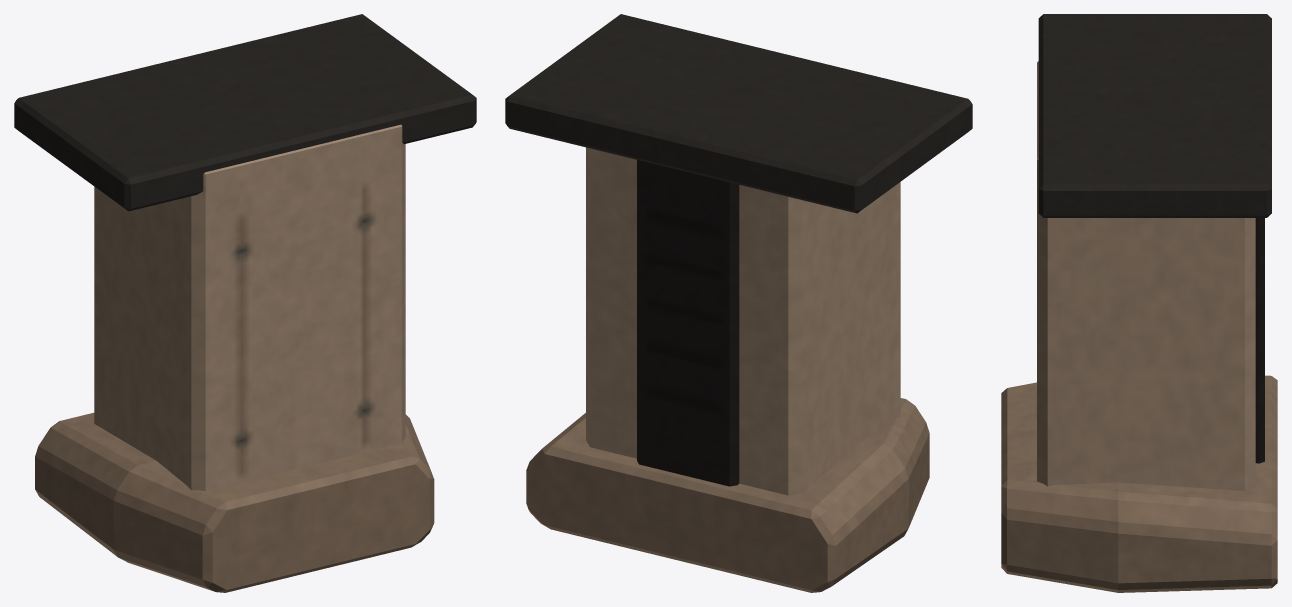
File: ceiling_clamp.obj
The picture shows the model from 3 angles, left to right: view 1: azimuth 30°, elevation 25°; view 2: azimuth 150°, elevation 25°; view 3: azimuth 270°, elevation 25°; orthographic projection.
Visible parts, largest first — view 1: ceiling_clamp; view 2: ceiling_clamp; view 3: ceiling_clamp.
Part boxes in pixels (left/top/right/bottom): ceiling_clamp: left=14, top=14, right=476, bottom=592; ceiling_clamp: left=505, top=14, right=972, bottom=592; ceiling_clamp: left=1001, top=14, right=1277, bottom=592.
Size of the model in its own units: 1.01 by 1.16 by 0.677.
Materials: 1 (1 with a texture image).
